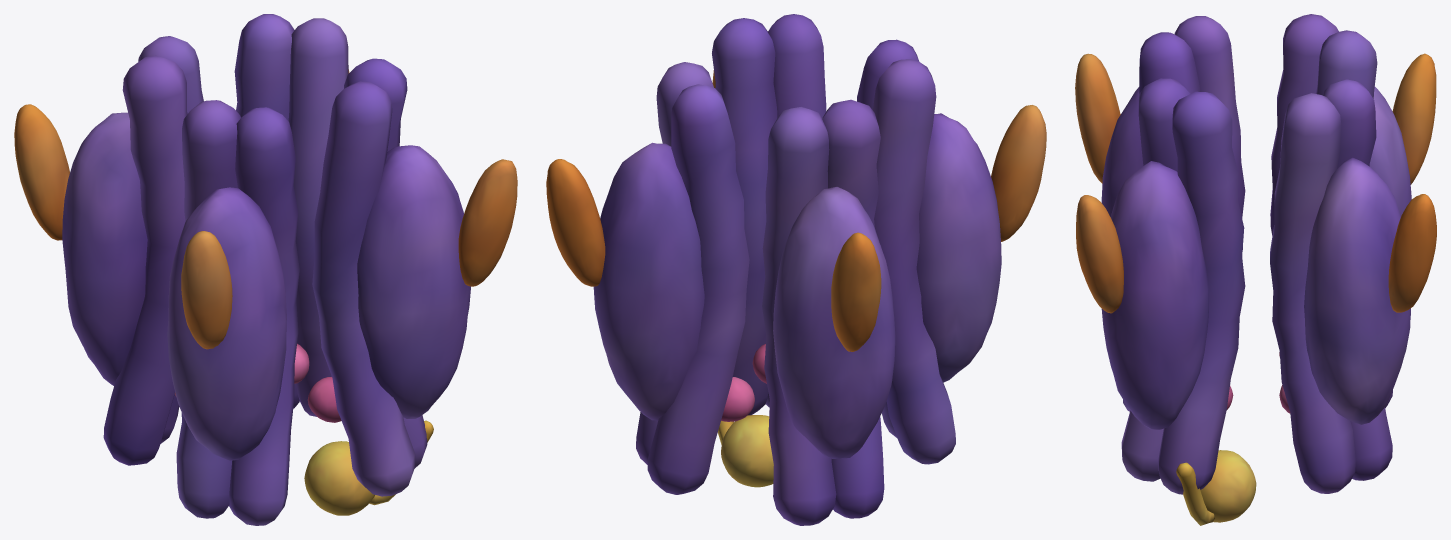
Rendered from na-channel-open.glb.
3 views of the same model, side by side, from view 1: azimuth 30°, elevation 25°; view 2: azimuth 150°, elevation 25°; view 3: azimuth 270°, elevation 25° (orthographic). The views are drawn at different scales.
Parts seen in each view (by area): view 1: na-channel-open-domains, na-channel-open-paddles, na-channel-open-ball, na-channel-open-gate; view 2: na-channel-open-domains, na-channel-open-paddles, na-channel-open-ball, na-channel-open-gate; view 3: na-channel-open-domains, na-channel-open-paddles, na-channel-open-ball.
Boxes of the visible parts, x1,y1,x2,y2 form: na-channel-open-domains: [62, 14, 470, 525]; na-channel-open-paddles: [14, 69, 517, 349]; na-channel-open-ball: [304, 420, 433, 515]; na-channel-open-gate: [174, 343, 341, 422]; na-channel-open-domains: [593, 14, 1001, 525]; na-channel-open-paddles: [546, 70, 1046, 351]; na-channel-open-ball: [717, 415, 773, 487]; na-channel-open-gate: [721, 344, 766, 421]; na-channel-open-domains: [1101, 14, 1411, 494]; na-channel-open-paddles: [1075, 53, 1436, 313]; na-channel-open-ball: [1176, 450, 1256, 525].
Size of what is drawn, in the model's own units: 1.03 by 1.35 by 1.02.
